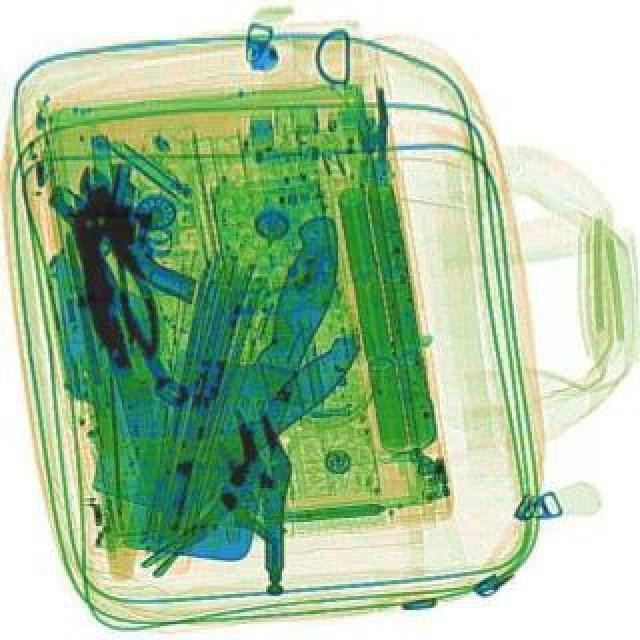gun: (78, 160, 226, 300)
knife: (114, 190, 350, 574), (128, 328, 370, 546)
